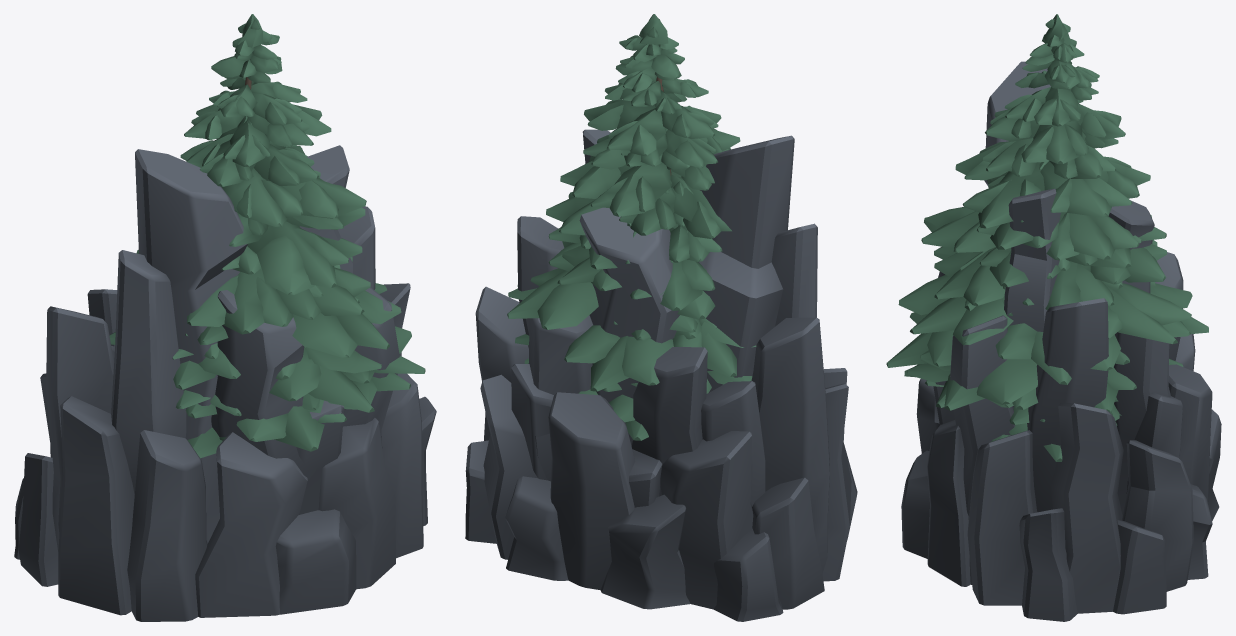
The model's file is sector01_props.glb.
3 renders of one model, left to right at view 1: azimuth 30°, elevation 25°; view 2: azimuth 150°, elevation 25°; view 3: azimuth 270°, elevation 25°, orthographic. The views are drawn at different scales.
Visible parts, largest first — view 1: S01_Cliff_Crag_A, S01_Nordic_Pine_Canopy_B, S01_Nordic_Pine_Canopy_A; view 2: S01_Cliff_Crag_A, S01_Nordic_Pine_Canopy_B, S01_Nordic_Pine_Canopy_A; view 3: S01_Cliff_Crag_A, S01_Nordic_Pine_Canopy_B, S01_Nordic_Pine_Canopy_A.
Boxes of the visible parts, x1,y1,x2,y2 form: S01_Cliff_Crag_A: (14, 145, 436, 621); S01_Nordic_Pine_Canopy_B: (109, 14, 425, 412); S01_Nordic_Pine_Canopy_A: (172, 116, 359, 458); S01_Cliff_Crag_A: (465, 129, 857, 621); S01_Nordic_Pine_Canopy_B: (507, 14, 756, 440); S01_Nordic_Pine_Canopy_A: (524, 128, 722, 393); S01_Cliff_Crag_A: (901, 61, 1221, 621); S01_Nordic_Pine_Canopy_B: (886, 14, 1208, 461); S01_Nordic_Pine_Canopy_A: (904, 161, 1122, 441).
Size of the model in its own units: 8.5 by 12.08 by 6.8.
